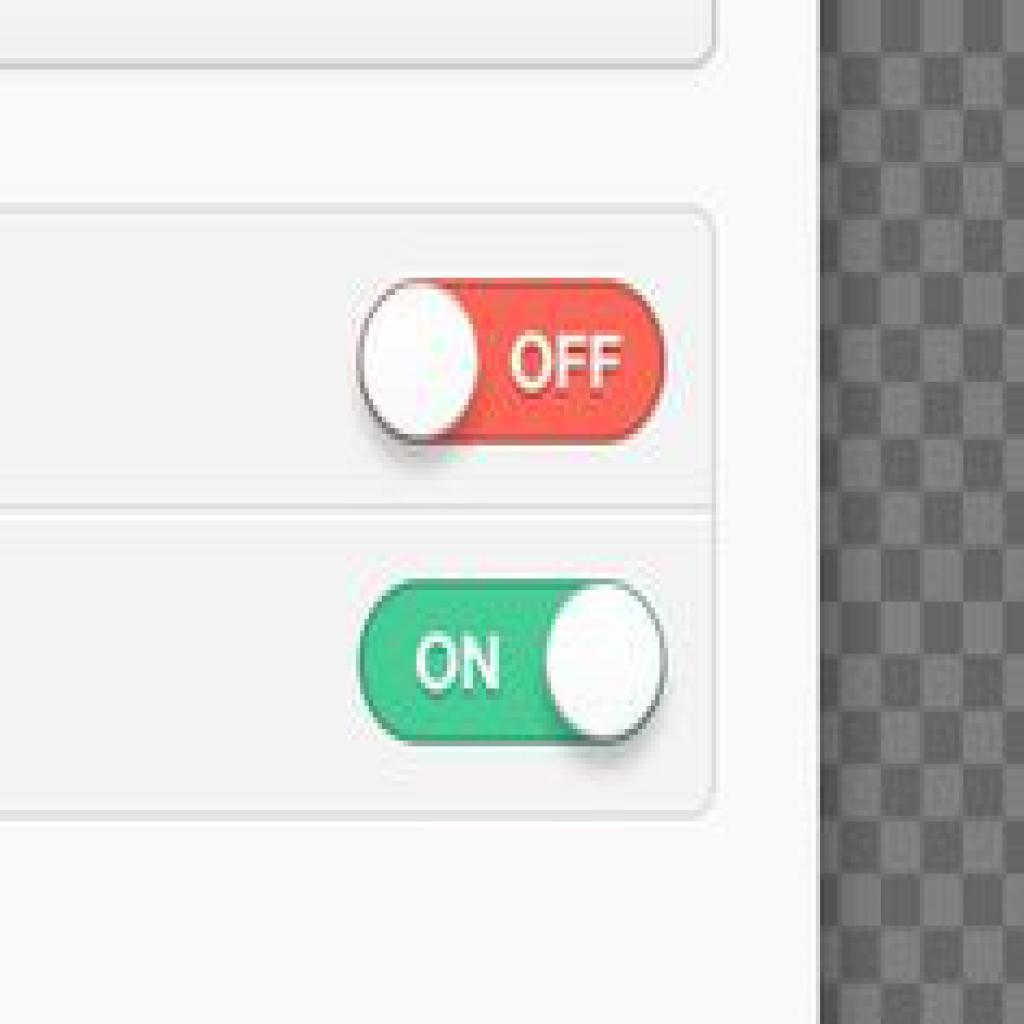switch: (361, 277, 668, 445), (358, 581, 666, 745)
